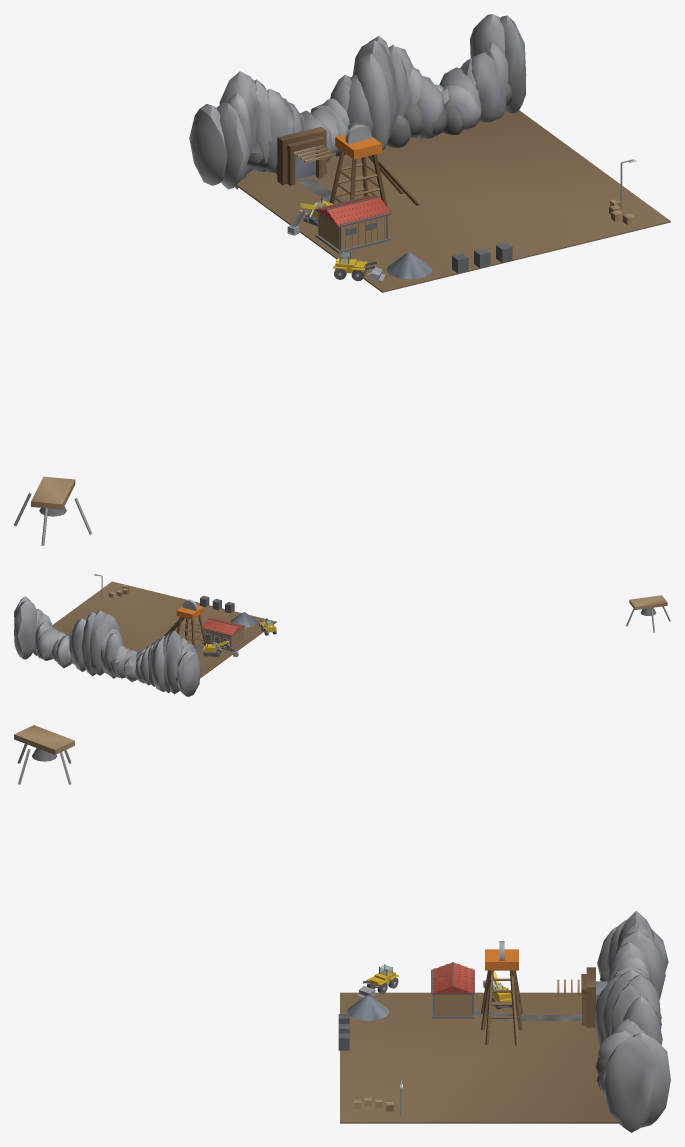
Rendered from Mine_P1.fbx.
The picture shows the model from 3 angles, top to bottom: view 1: azimuth 30°, elevation 25°; view 2: azimuth 150°, elevation 25°; view 3: azimuth 270°, elevation 25°; orthographic projection. The views are drawn at different scales.
Parts seen in each view (by area): view 1: Mine.Apron, Mine.Cliff, Mine.Winder, Mine.Headframe, Mine.Adit0, Mine.LoadGantry, Mine.Clutter, Mine.Loader, Mine.Spoil0; view 2: Mine.Cliff, Mine.Apron, Mine.Winder, Mine.Headframe, Mine.LoadGantry, Mine.Clutter, Mine.Excav, Mine.Spoil0, Mine.Loader; view 3: Mine.Apron, Mine.Cliff, Mine.Winder, Mine.Headframe, Mine.LoadGantry, Mine.Adit0, Mine.Loader, Mine.Clutter, Mine.Spoil0.
Boxes of the visible parts, box(x1,y1,x2,y2) form: Mine.Apron: box(236, 110, 670, 292); Mine.Cliff: box(189, 14, 526, 189); Mine.Winder: box(314, 195, 391, 253); Mine.Headframe: box(329, 124, 419, 207); Mine.Adit0: box(274, 126, 335, 185); Mine.LoadGantry: box(14, 476, 92, 545); Mine.Clutter: box(452, 199, 634, 273); Mine.Loader: box(333, 252, 385, 281); Mine.Spoil0: box(386, 252, 432, 279); Mine.Cliff: box(14, 596, 200, 696); Mine.Apron: box(52, 581, 276, 678); Mine.Winder: box(202, 618, 245, 651); Mine.Headframe: box(164, 599, 206, 648); Mine.LoadGantry: box(626, 595, 670, 632); Mine.Clutter: box(109, 585, 234, 613); Mine.Excav: box(203, 640, 238, 656); Mine.Spoil0: box(231, 612, 256, 627); Mine.Loader: box(258, 618, 276, 635); Mine.Apron: box(340, 992, 620, 1123); Mine.Cliff: box(594, 910, 670, 1132); Mine.Winder: box(431, 962, 474, 1018); Mine.Headframe: box(481, 941, 522, 1045); Mine.LoadGantry: box(14, 725, 74, 784); Mine.Adit0: box(557, 967, 607, 1027); Mine.Loader: box(357, 964, 398, 998); Mine.Clutter: box(338, 1014, 393, 1111); Mine.Spoil0: box(347, 995, 389, 1020).
Size of the model in its own units: 20282 by 2726 by 15415.
